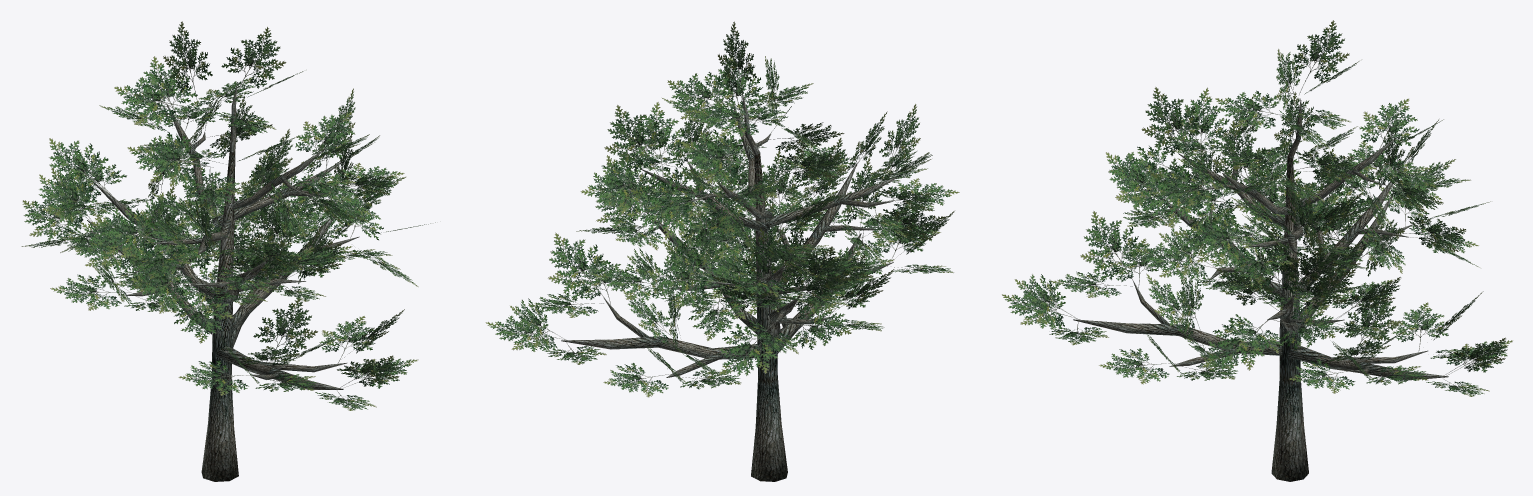
File: tree_4.obj
3 views of the same model, side by side, from view 1: azimuth 30°, elevation 25°; view 2: azimuth 150°, elevation 25°; view 3: azimuth 270°, elevation 25° (orthographic).
Parts seen in each view (by area): view 1: leaves, branches, trunk; view 2: leaves, branches, trunk; view 3: leaves, branches, trunk.
Part boxes in pixels (bbox=[...]): leaves: bbox=[21, 21, 435, 410]; branches: bbox=[87, 82, 359, 389]; trunk: bbox=[201, 151, 238, 481]; leaves: bbox=[485, 21, 959, 397]; branches: bbox=[561, 92, 900, 377]; trunk: bbox=[751, 152, 787, 481]; leaves: bbox=[1002, 20, 1512, 396]; branches: bbox=[1073, 98, 1448, 380]; trunk: bbox=[1271, 156, 1308, 481].
Size of the model in its own units: 103 by 125 by 131.
Materials: 2 (2 with a texture image).
